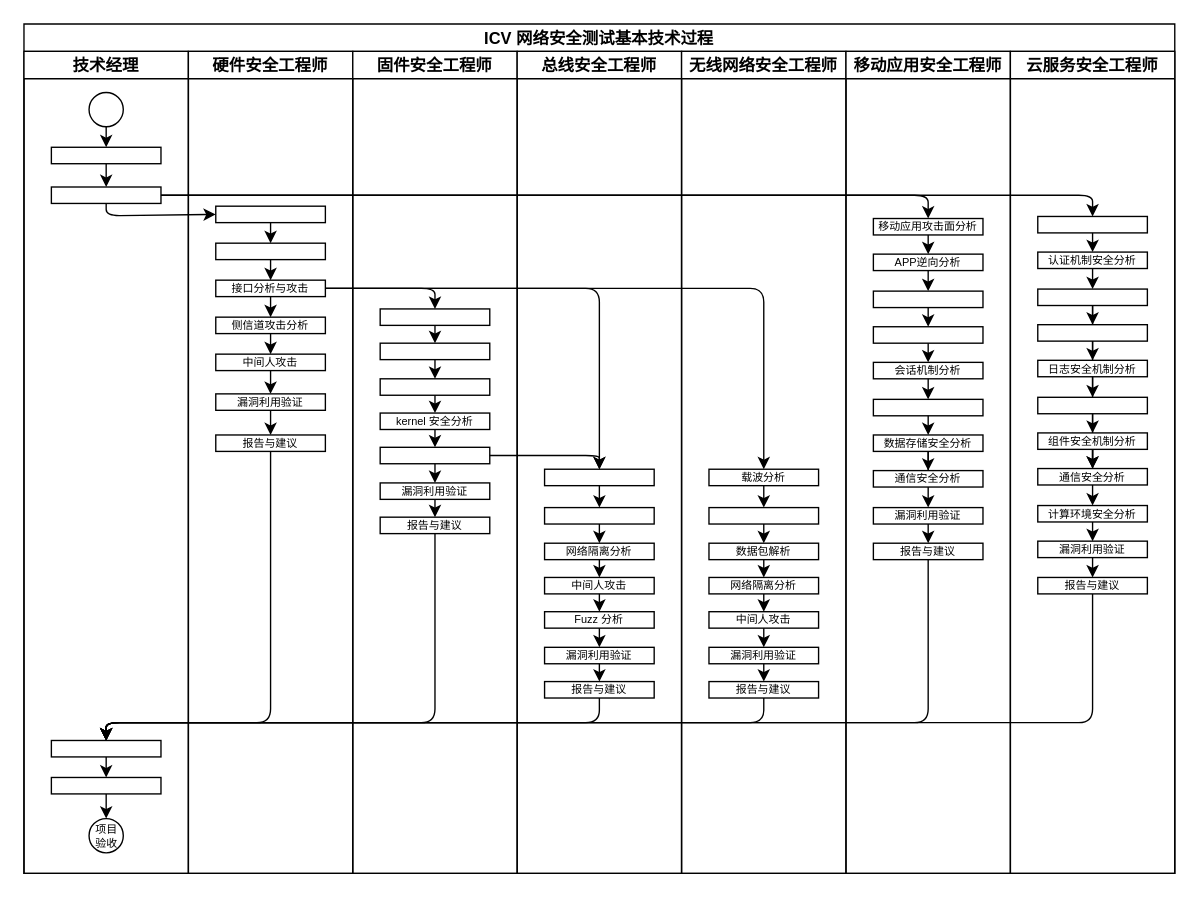
Image size: 1199x897. Some labels were removed from this diagram. Here are the shapes that lost their labels. From the top down, the centre of each, then its label:
At (x=105, y=109): "项目 启动".
At (x=105, y=155): "车型技术分析".
At (x=105, y=194): "总体威胁建模".
At (x=269, y=214): "硬件攻击面分析".
At (x=1091, y=224): "TSP攻击面分析".
At (x=269, y=251): "PCB 分析".
At (x=434, y=316): "固件提取".
At (x=927, y=299): "硬编码敏感值发现".
At (x=1091, y=297): "会话机制安全分析".
At (x=434, y=351): "固件攻击面分析".
At (x=927, y=334): "敏感日志检查".
At (x=1091, y=332): "交互安全机制分析".
At (x=434, y=386): "bootloader安全分析".
At (x=1091, y=405): "存储安全机制分析".
At (x=927, y=407): "缓存敏感数据分析".
At (x=434, y=455): "应用安全分析".
At (x=598, y=477): "总线协议分析".
At (x=598, y=515): "通信矩阵逆向".
At (x=763, y=515): "无线协议嗅探/分析".
At (x=105, y=748): "复核".
At (x=105, y=785): "报告和修复建议".
